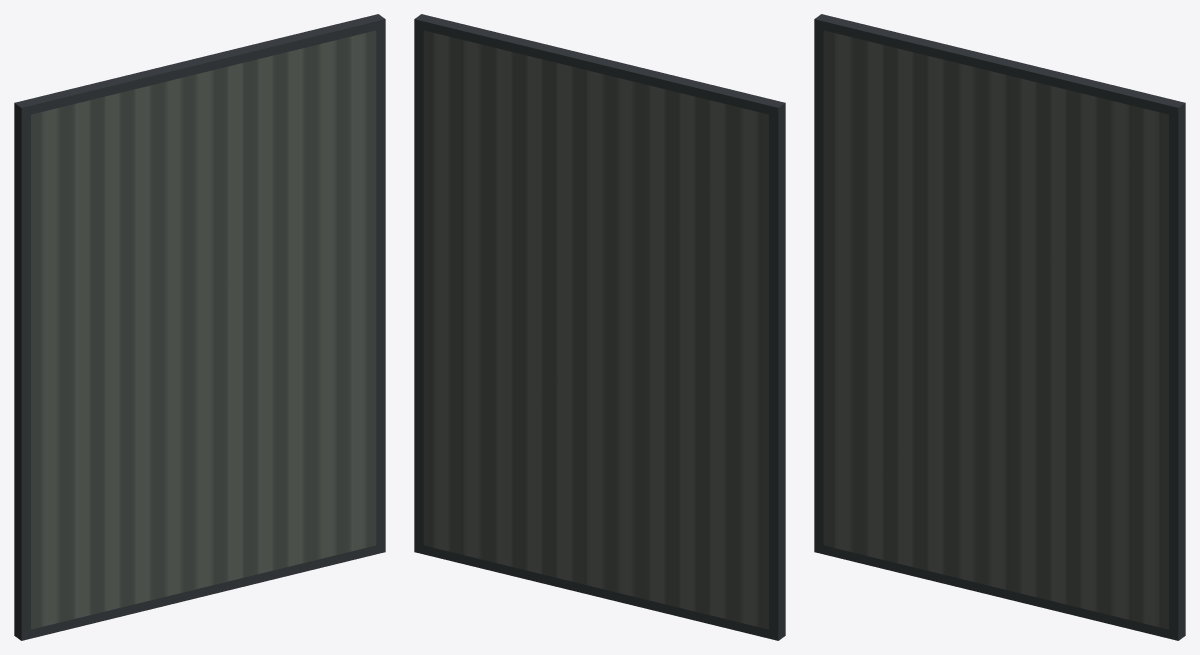
Rendered from SM_Bld_Hangar_Door_05.fbx.
3 renders of one model, left to right at view 1: azimuth 30°, elevation 25°; view 2: azimuth 150°, elevation 25°; view 3: azimuth 330°, elevation 25°, orthographic.
Visible parts, largest first — view 1: SM_Bld_Hangar_Door_05; view 2: SM_Bld_Hangar_Door_05; view 3: SM_Bld_Hangar_Door_05.
Part boxes in pixels (x1=…): SM_Bld_Hangar_Door_05: x1=14, y1=14, x2=385, y2=640; SM_Bld_Hangar_Door_05: x1=414, y1=14, x2=785, y2=640; SM_Bld_Hangar_Door_05: x1=814, y1=14, x2=1185, y2=640.
Size of the model in its own units: 457 by 640 by 15.28.
